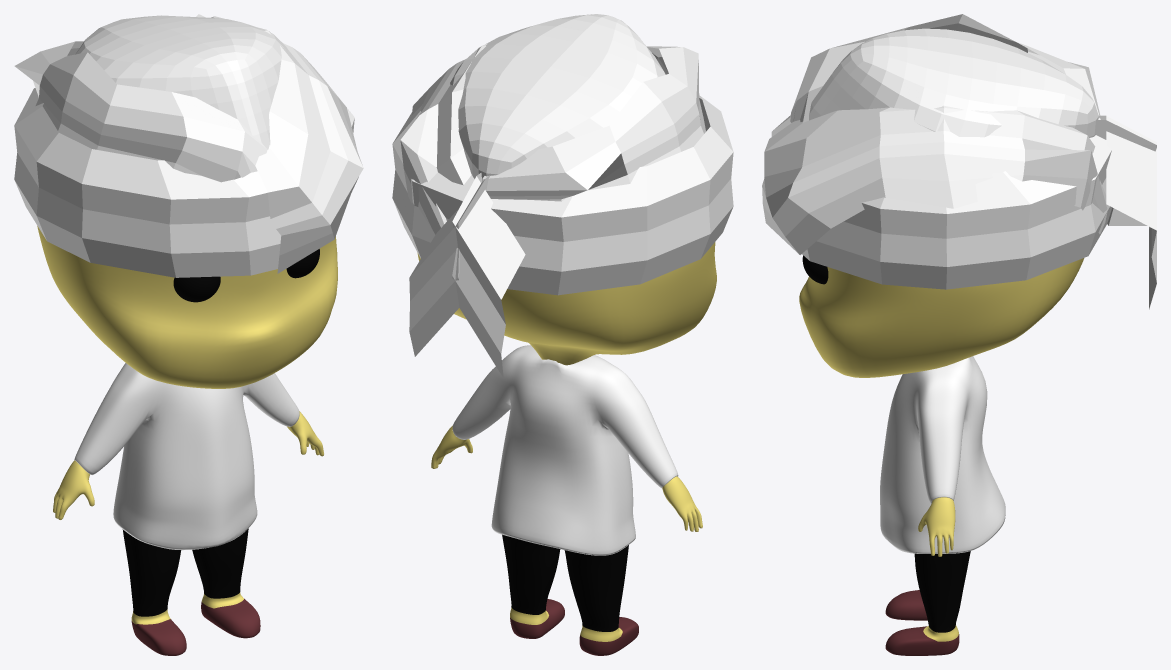
Rendered from Pang_Dip.fbx.
3 renders of one model, left to right at view 1: azimuth 30°, elevation 25°; view 2: azimuth 150°, elevation 25°; view 3: azimuth 270°, elevation 25°, orthographic. The views are drawn at different scales.
Parts seen in each view (by area): view 1: Cube; view 2: Cube; view 3: Cube.
Part boxes in pixels (x1,y1,x2,y2): Cube: (14, 14, 363, 655); Cube: (392, 14, 733, 655); Cube: (762, 14, 1156, 655).
Size of the model in its own units: 167 by 324 by 198.
